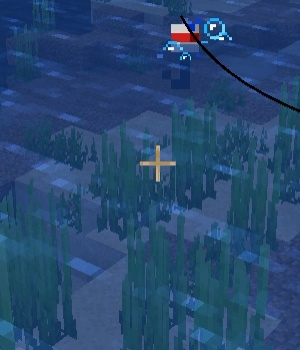up: (163, 15, 200, 94)
